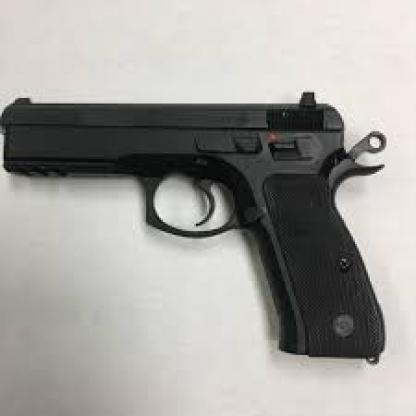Pistol: (0, 84, 389, 363)
